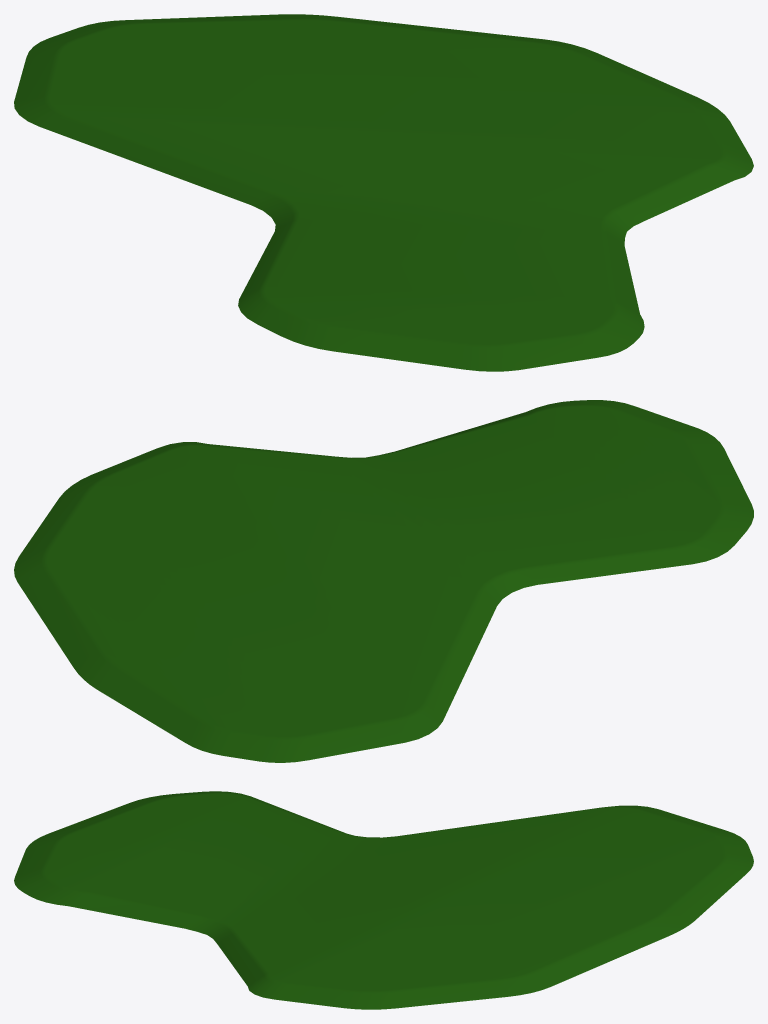
Rendered from GroundPadding04_3.fbx.
3 views of the same model, one above another, from view 1: azimuth 30°, elevation 25°; view 2: azimuth 150°, elevation 25°; view 3: azimuth 270°, elevation 25° (orthographic). The views are drawn at different scales.
Visible parts, largest first — view 1: LOD0; view 2: LOD0; view 3: LOD0.
Boxes of the visible parts, x1,y1,x2,y2 form: LOD0: (14, 14, 753, 371); LOD0: (14, 400, 753, 762); LOD0: (14, 791, 753, 1009).
Size of what is drawn, in the model's own units: 1238 by 1772 by 20.49.
Materials: 1 (1 with a texture image).
